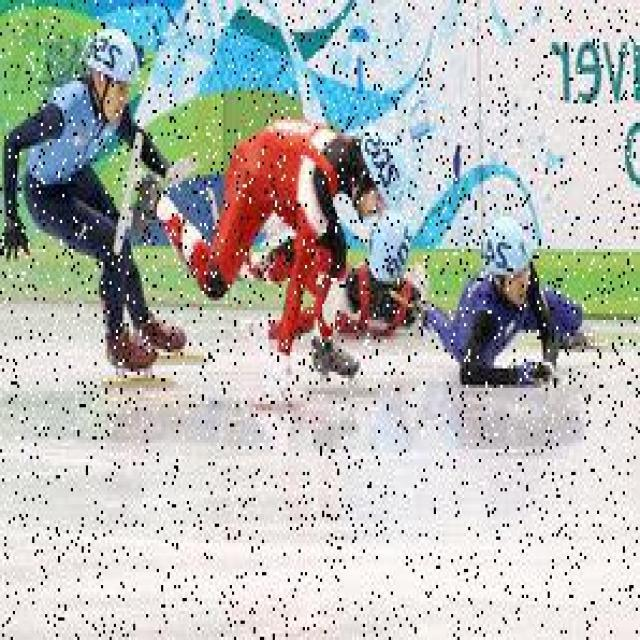fall: (168, 104, 374, 388), (419, 223, 599, 375)
